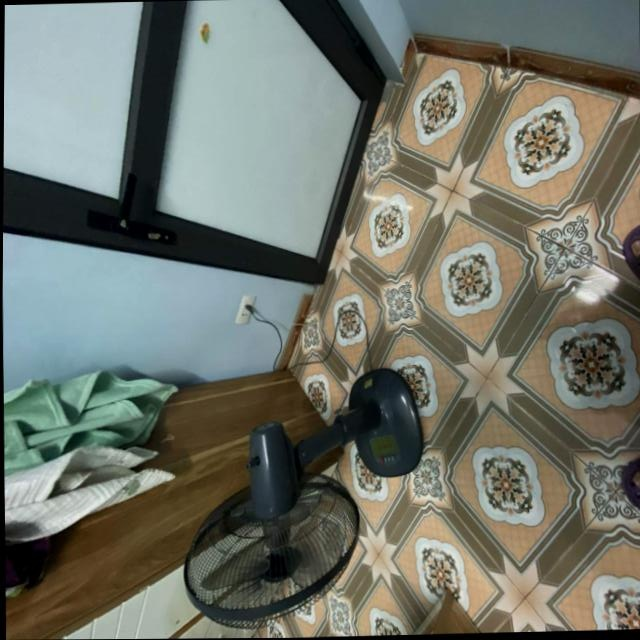outlet: (234, 296, 257, 326)
